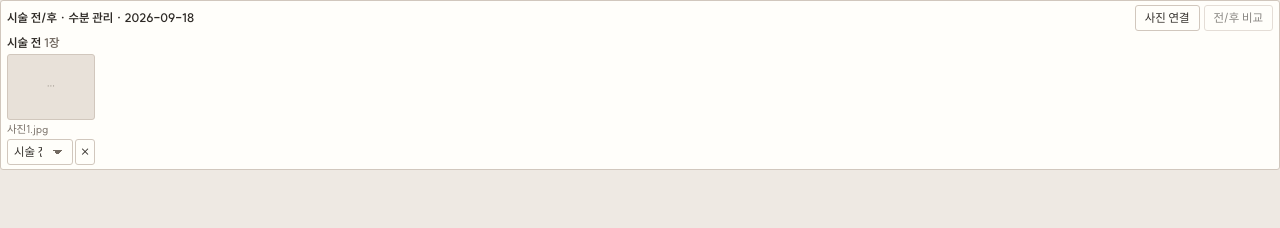
Test case: TreatmentPhotoLinks · 연결·변경·해제 › 권한이 없으면(403) 안내하고 목록은 그대로 둔다
The width and height of the screenshot is (1280, 228).
Select "시술 후" in the dropdown named "사진1.jpg 구분": coordinates (40, 152) left=7, top=139, right=73, bottom=165
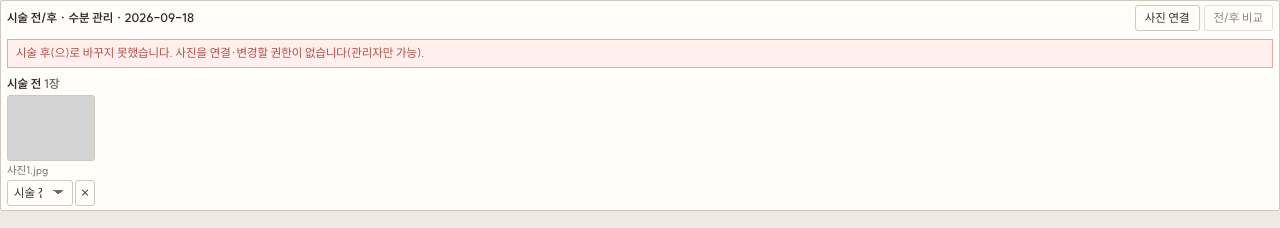
Expected: the text "사진1.jpg" is shown, left=7, top=163, right=48, bottom=177
Expected: the text "시술 후(으)로 바꾸지 못했습니다. 사진을 연결·변경할 권한이 없습니다(관리자만 가능)." is shown, left=7, top=39, right=1273, bottom=68
